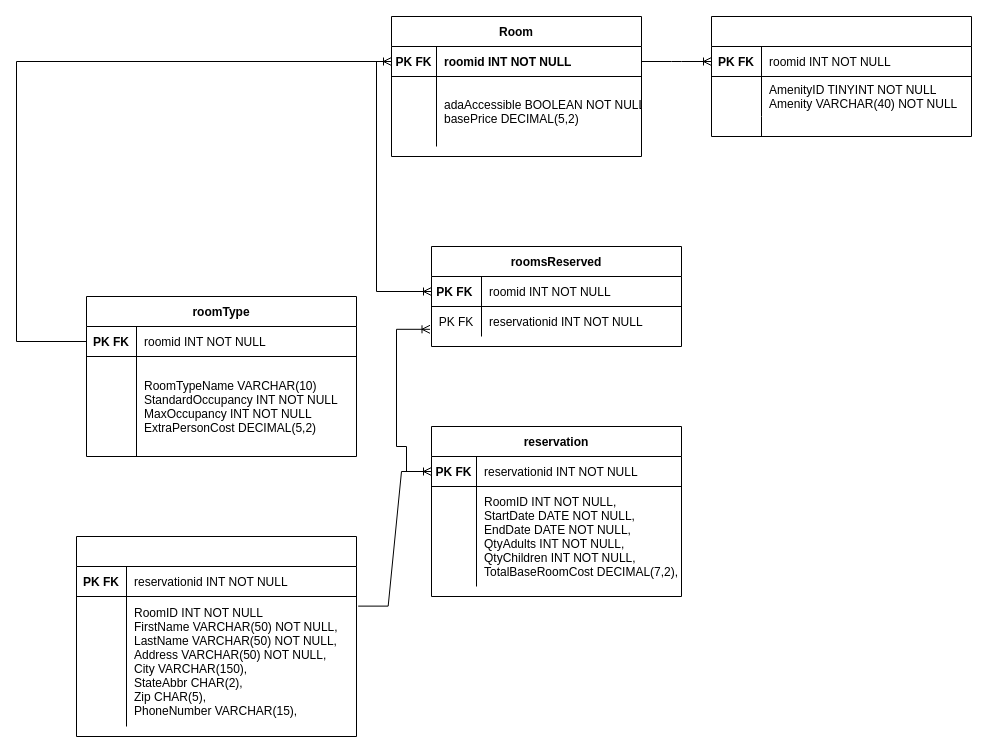
This 988x753 diagram has some shape labels left out. Here are the shapes that lost their labels. From the top down, the box of each, then its label:
(710, 16, 972, 136): roomAmenities
(76, 536, 356, 736): guest
